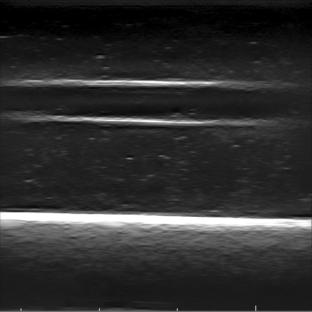vessel: (4, 78, 301, 128)
